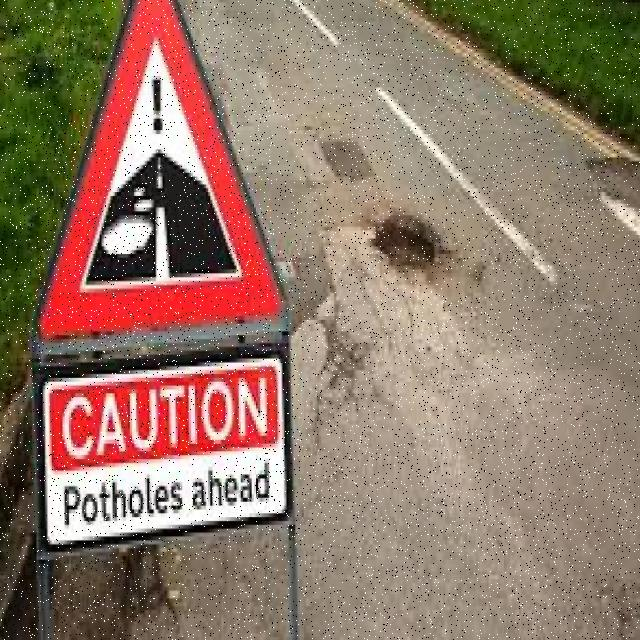pothole: (376, 215, 452, 273), (591, 161, 640, 217)
